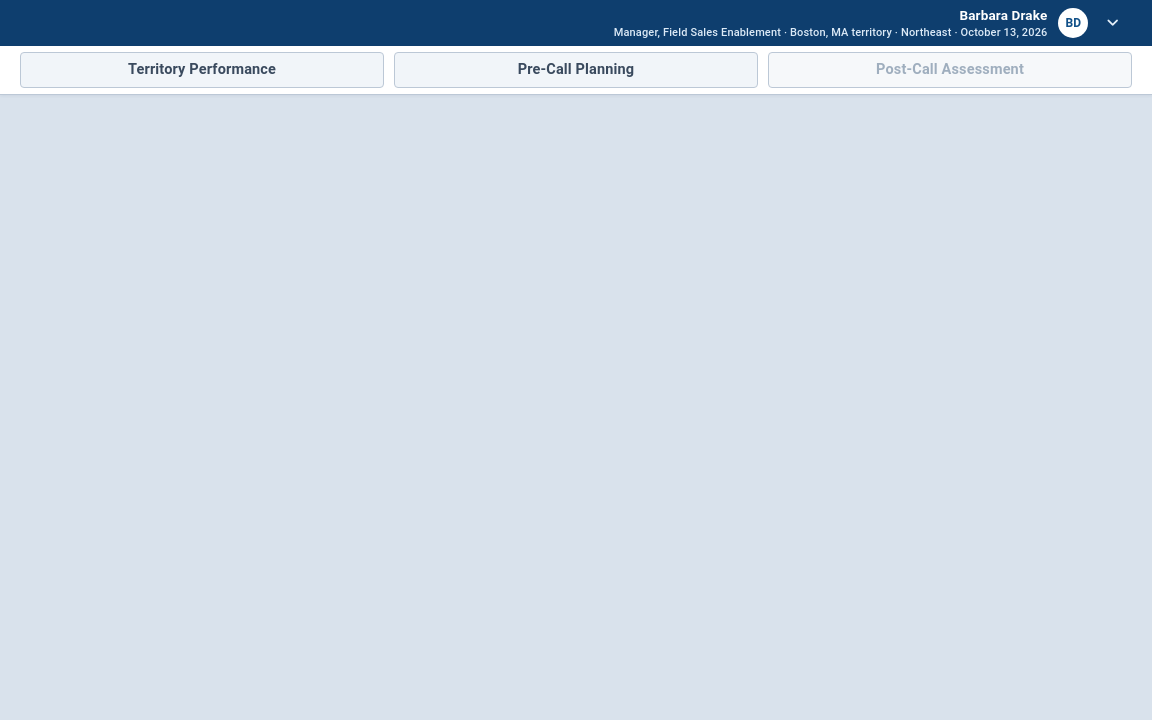
Scenario: shell and impersonation › Look up with no match shows the error message
Click the button named "Account" at coordinates (868, 23), box [604, 2, 1132, 44]
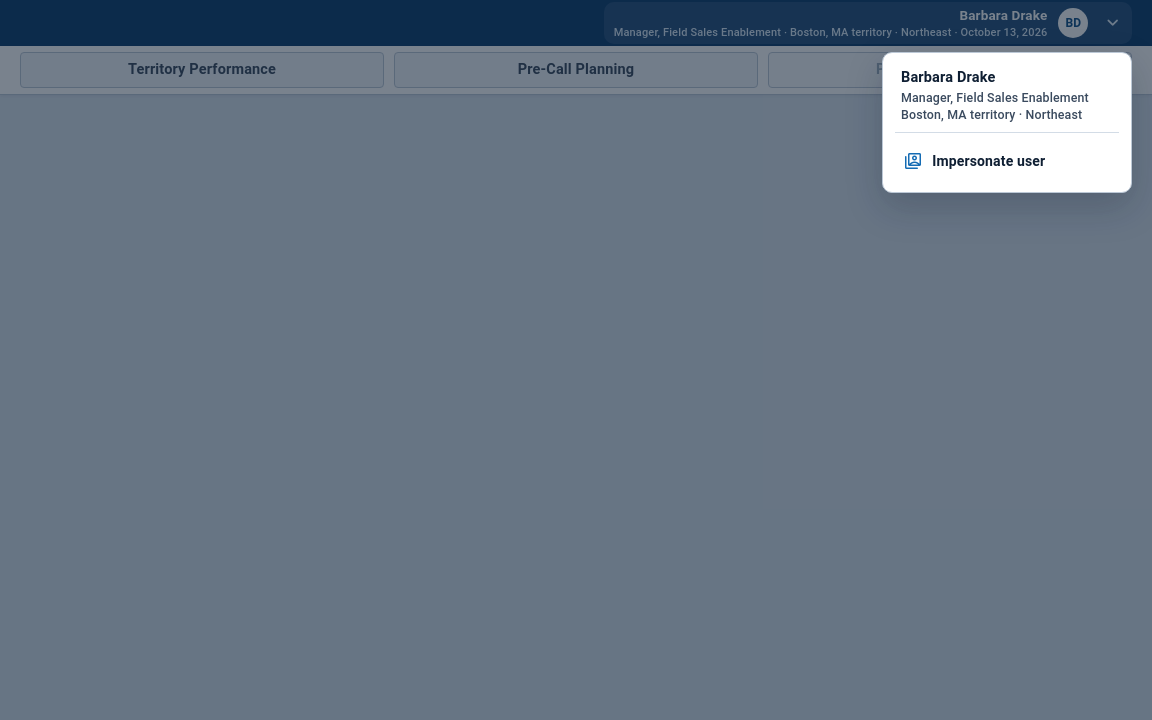
Click the menu item "Impersonate user" at coordinates (1007, 162), box [891, 138, 1123, 184]
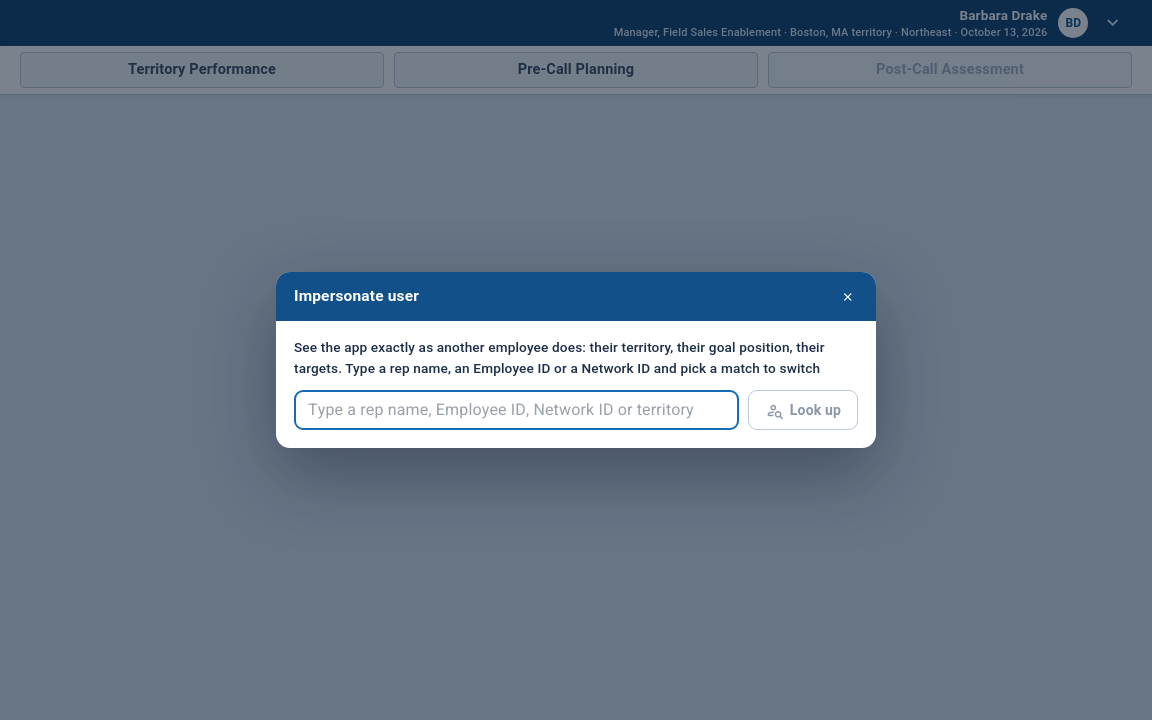
Type "zz9" into the field named "Rep name, Employee ID or Network ID" at coordinates (516, 410), box [294, 390, 739, 430]
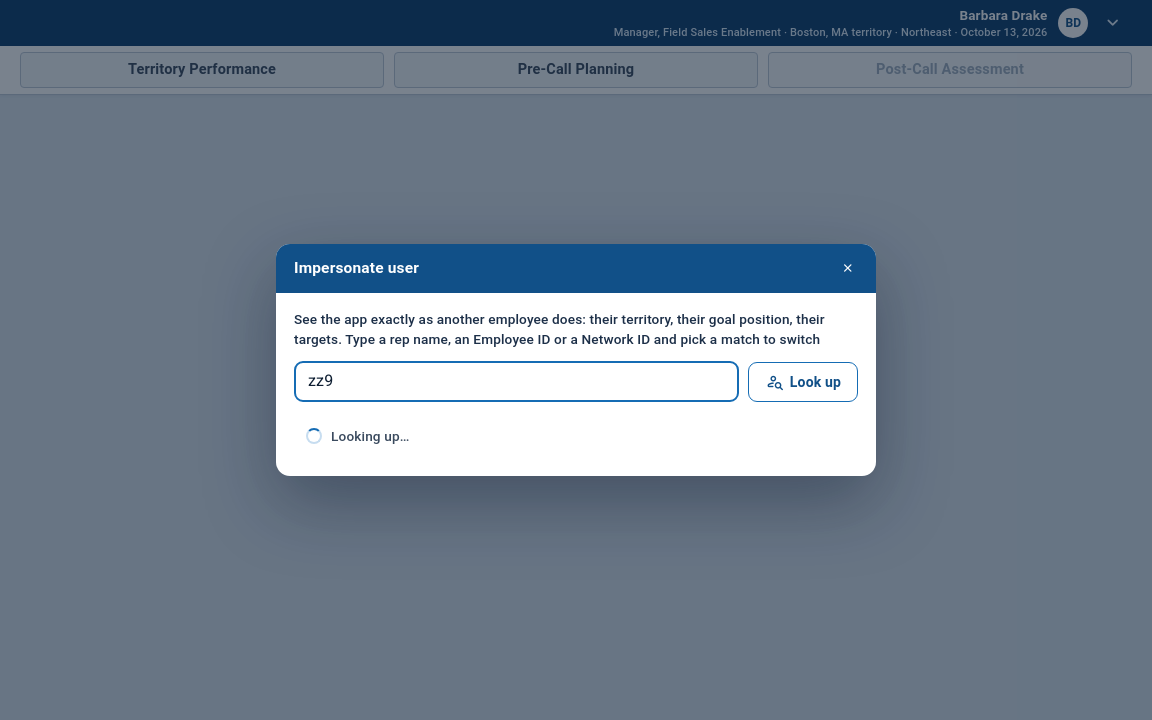
Click the button "Look up" at coordinates (803, 382), box [748, 362, 858, 402]
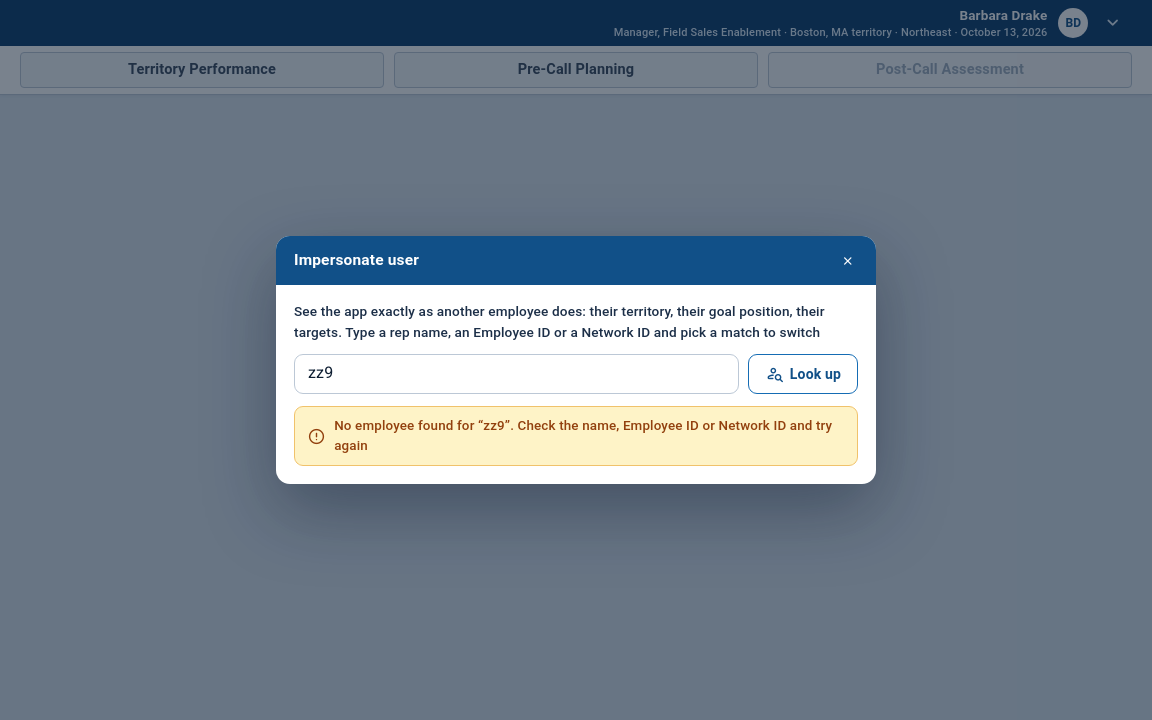
Expected: the text "No employee found for “zz9”. Check the name, Employee ID or Network ID and try again" is shown, [334, 418, 832, 453]
